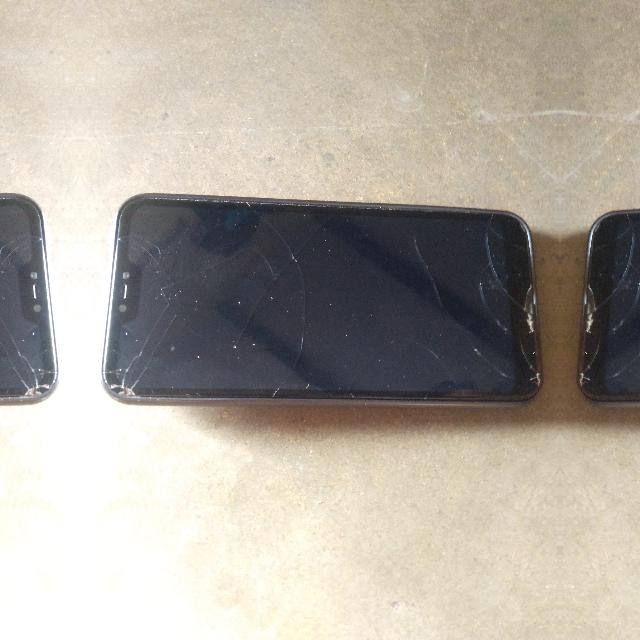phone_screen: (104, 197, 540, 400), (579, 212, 639, 399), (0, 197, 55, 398)
